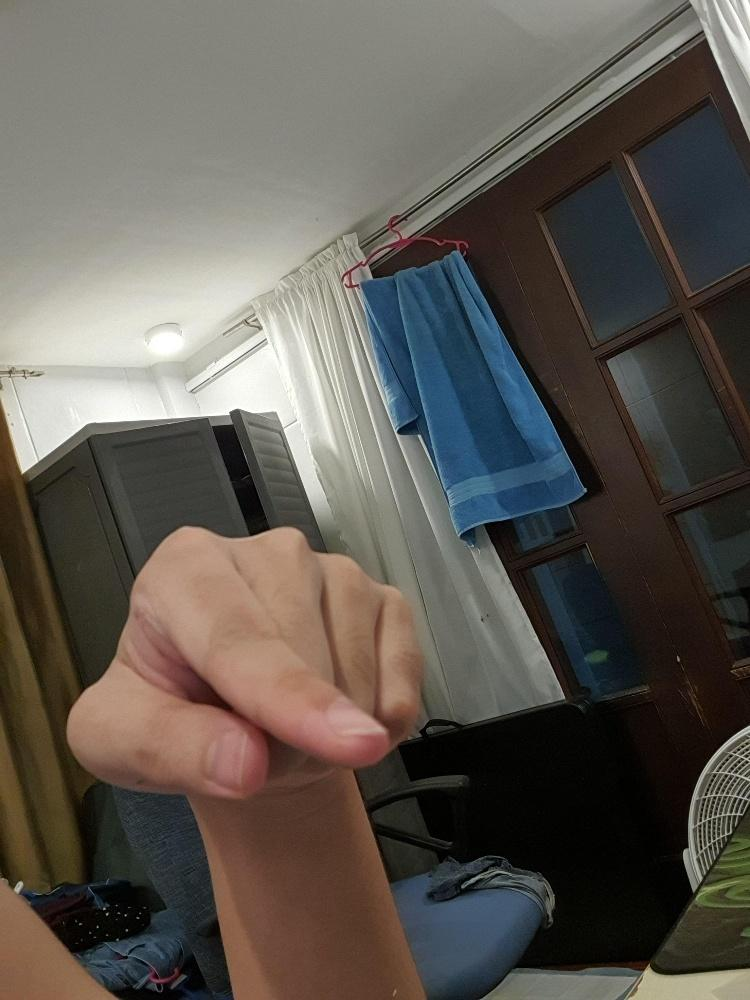z: (62, 517, 427, 807)
